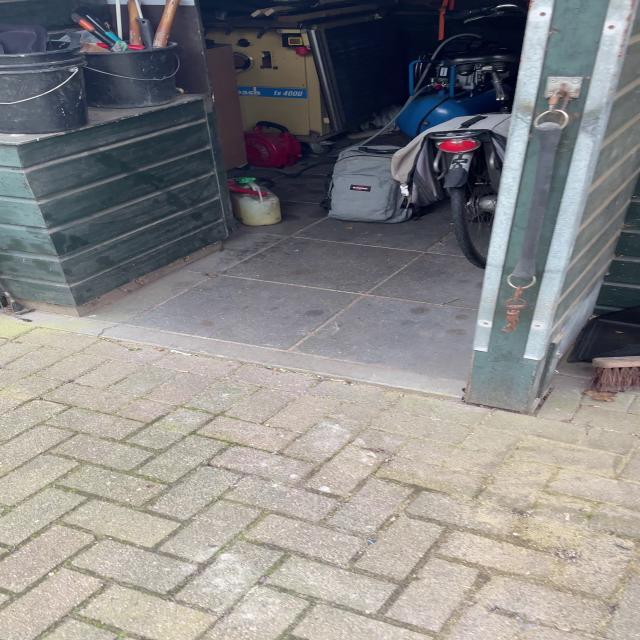backpack: (322, 141, 423, 225)
